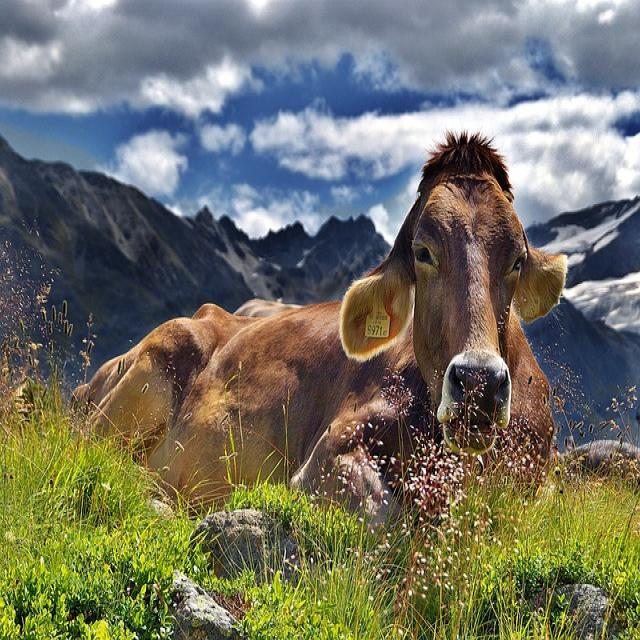Herbivorous: (109, 135, 569, 513)
